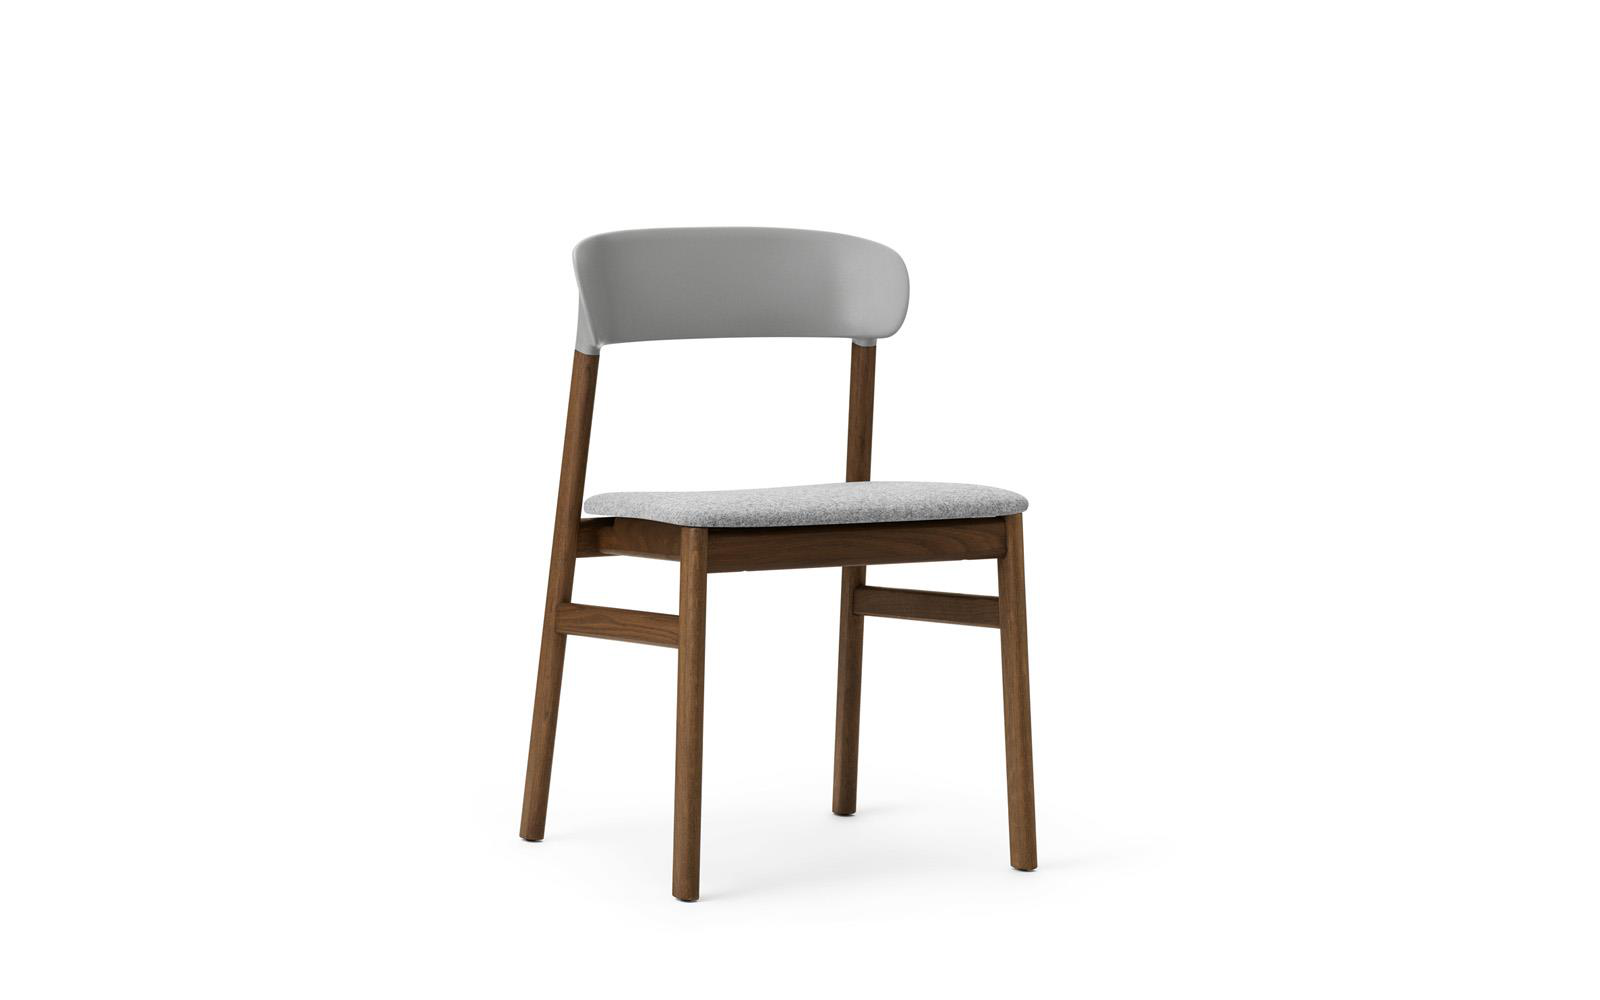chair: (441, 165, 1133, 942)
